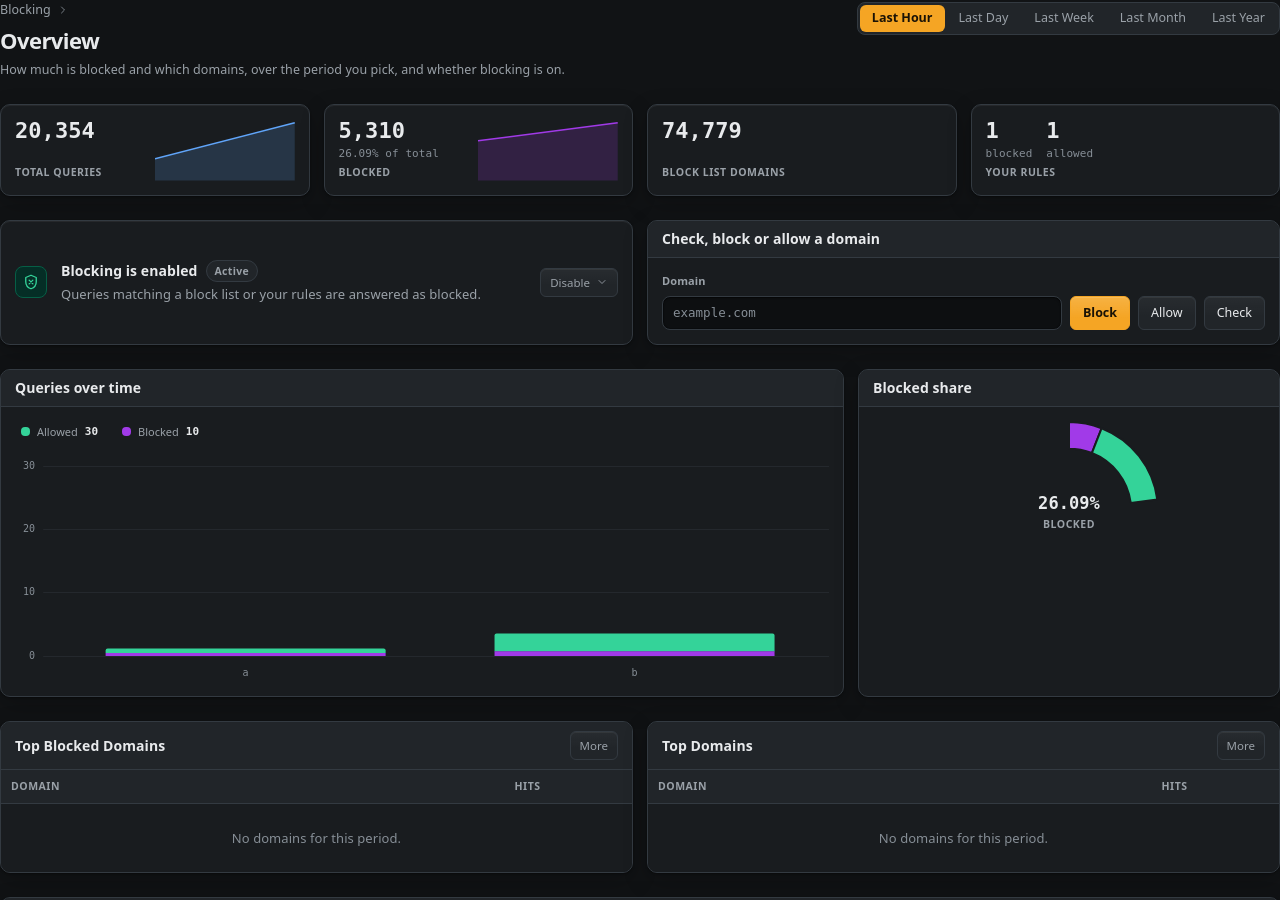
Overview › a new period that fails does not keep the figures of the previous one
Expected: the text "20,354" is shown, [15,119,102,143]
Click the button "Last Day" at (983, 18), box [946,5,1020,32]
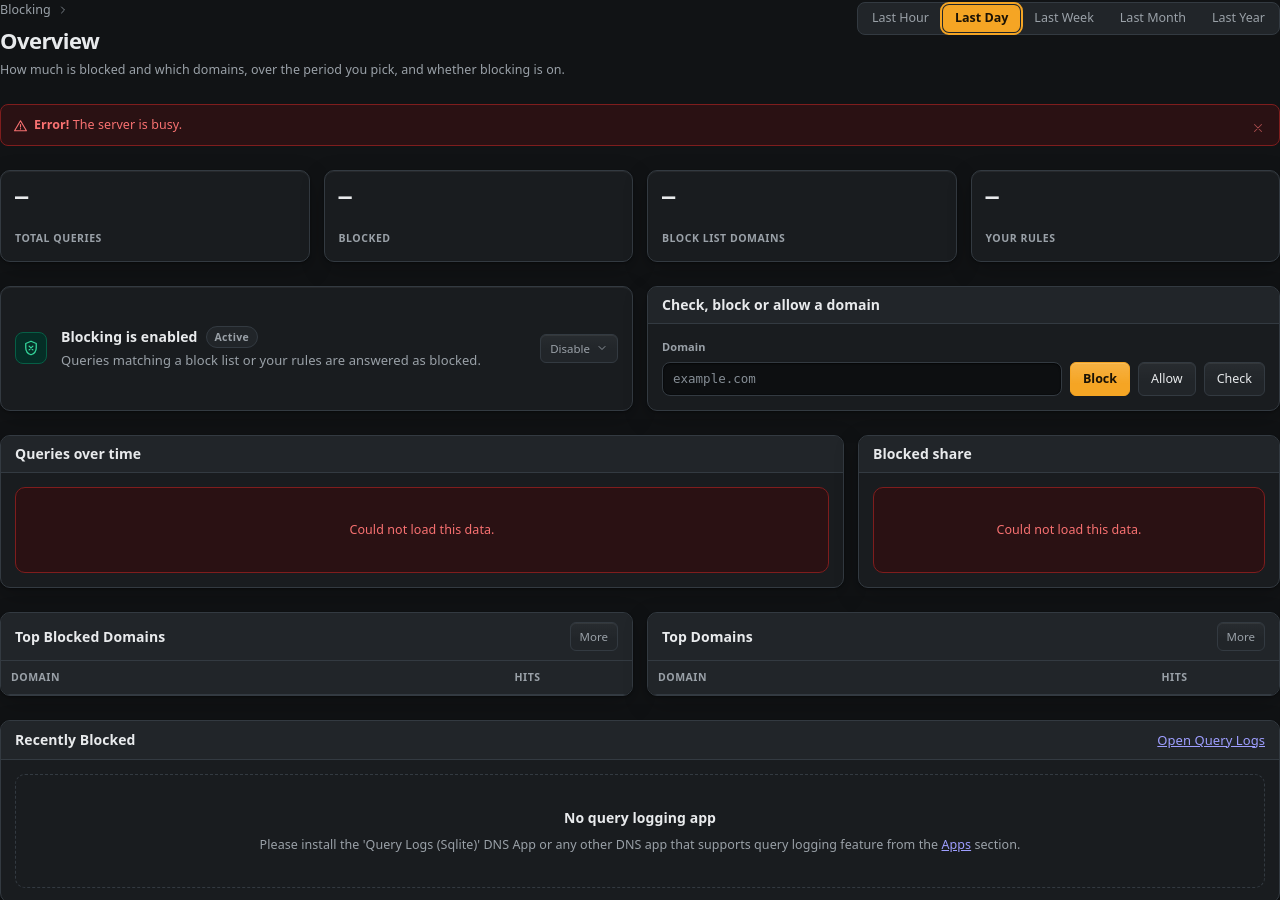
Now the text "The server is busy." is shown, box [73,116,182,133]
Now the text "20,354" is gone
